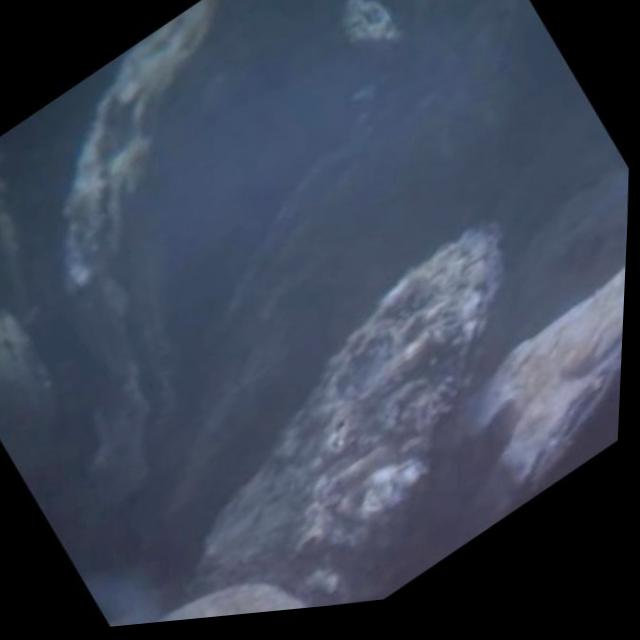Oyster-Closed: (442, 269, 625, 552)
Oyster-Indeterminate: (198, 230, 500, 608)
Oyster-Open: (60, 0, 258, 516), (194, 78, 504, 378)
